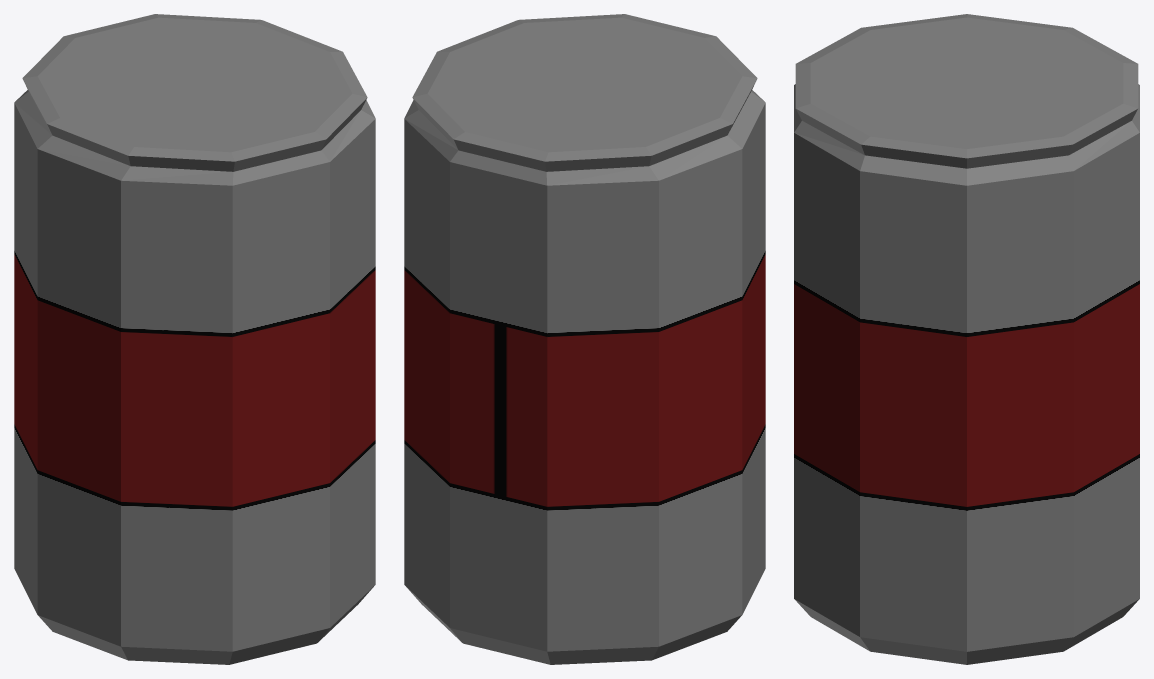
Rendered from LataM.fbx.
3 views of the same model, side by side, from view 1: azimuth 30°, elevation 25°; view 2: azimuth 150°, elevation 25°; view 3: azimuth 270°, elevation 25° (orthographic).
Visible parts, largest first — view 1: Cylinder001; view 2: Cylinder001; view 3: Cylinder001.
Boxes of the visible parts, box(x1,y1,x2,y2) form: Cylinder001: box(14, 14, 375, 664); Cylinder001: box(404, 14, 765, 664); Cylinder001: box(794, 14, 1139, 664).
Bounding box in the file's own units: 24.57 × 38.19 × 23.37.
